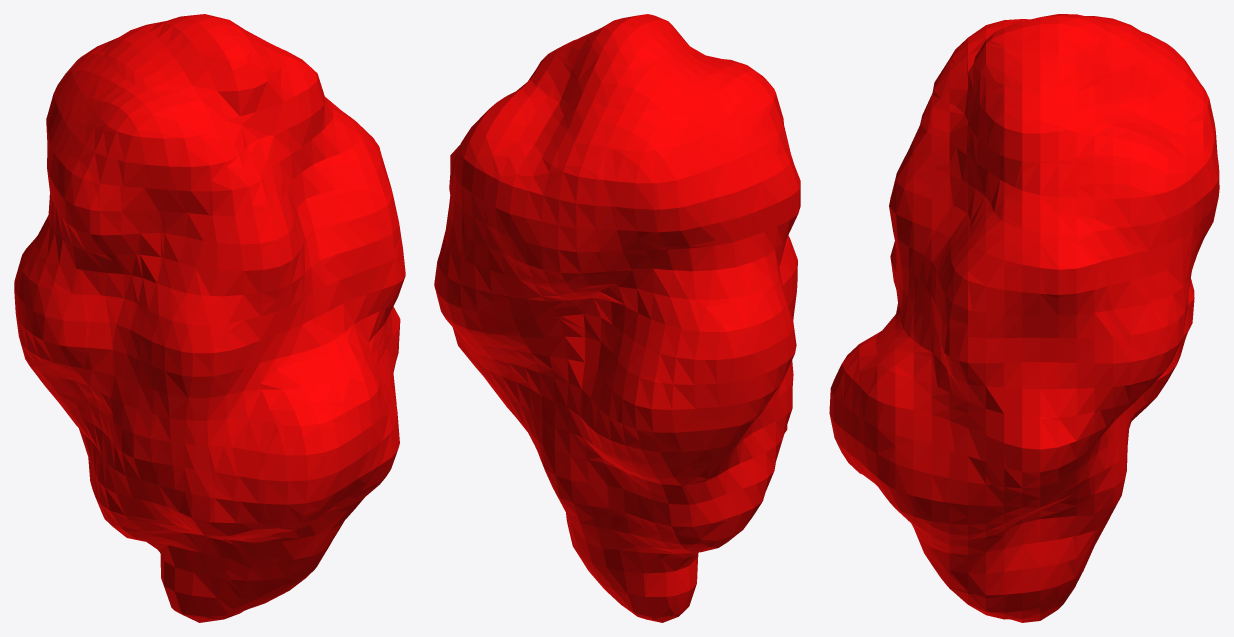
The model's file is yigI_coarse.dae.
3 views of the same model, side by side, from view 1: azimuth 30°, elevation 25°; view 2: azimuth 150°, elevation 25°; view 3: azimuth 270°, elevation 25° (orthographic). The views are drawn at different scales.
Parts seen in each view (by area): view 1: yigI; view 2: yigI; view 3: yigI.
Part boxes in pixels (x1,y1,x2,y2): yigI: (14, 14, 405, 622); yigI: (434, 14, 800, 622); yigI: (829, 14, 1219, 622).
Bounding box in the file's own units: 37.73 × 61.43 × 35.97.
